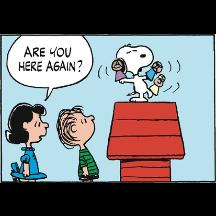snoopy: (112, 42, 166, 102)
